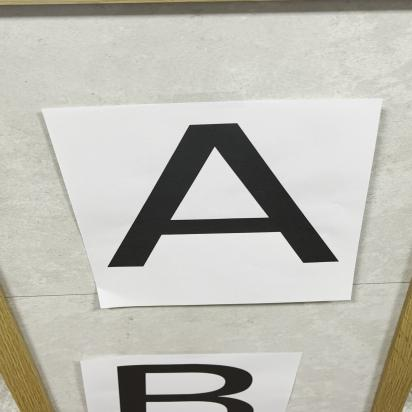seat: (101, 117, 359, 290)
